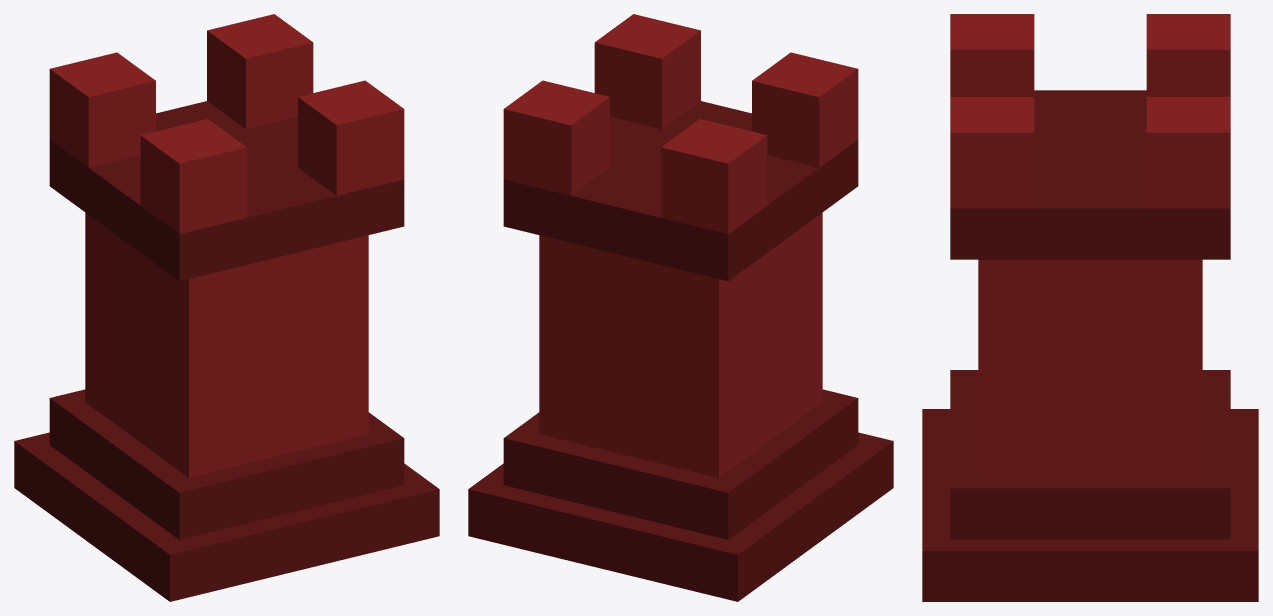
Rendered from rook.gltf.
3 renders of one model, left to right at view 1: azimuth 30°, elevation 25°; view 2: azimuth 150°, elevation 25°; view 3: azimuth 270°, elevation 25°, orthographic. The views are drawn at different scales.
Parts seen in each view (by area): view 1: body, base, rim, foot, cren_3, cren_4, cren_1, cren_2; view 2: body, base, rim, foot, cren_1, cren_2, cren_3, cren_4; view 3: body, base, rim, foot, cren_2, cren_4, cren_1, cren_3.
Part boxes in pixels (box(x1,y1,x2,y2)): body: box(85, 212, 368, 477); base: box(14, 432, 439, 601); rim: box(49, 101, 404, 281); foot: box(49, 389, 404, 539); cren_3: box(140, 119, 246, 234); cren_4: box(298, 80, 404, 195); cren_1: box(49, 52, 155, 167); cren_2: box(207, 14, 313, 129); body: box(539, 212, 822, 477); base: box(468, 432, 893, 601); rim: box(503, 101, 858, 281); foot: box(503, 389, 858, 539); cren_1: box(661, 119, 767, 234); cren_2: box(503, 80, 609, 195); cren_3: box(752, 52, 858, 167); cren_4: box(594, 14, 700, 129); body: box(978, 259, 1202, 476); base: box(922, 409, 1258, 601); rim: box(950, 90, 1230, 259); foot: box(950, 370, 1230, 539); cren_2: box(1146, 97, 1230, 208); cren_4: box(950, 97, 1034, 208); cren_1: box(1146, 14, 1230, 96); cren_3: box(950, 14, 1034, 96).
Size of the model in its own units: 0.75 by 1.12 by 0.75.
2 materials, 2 textured.
